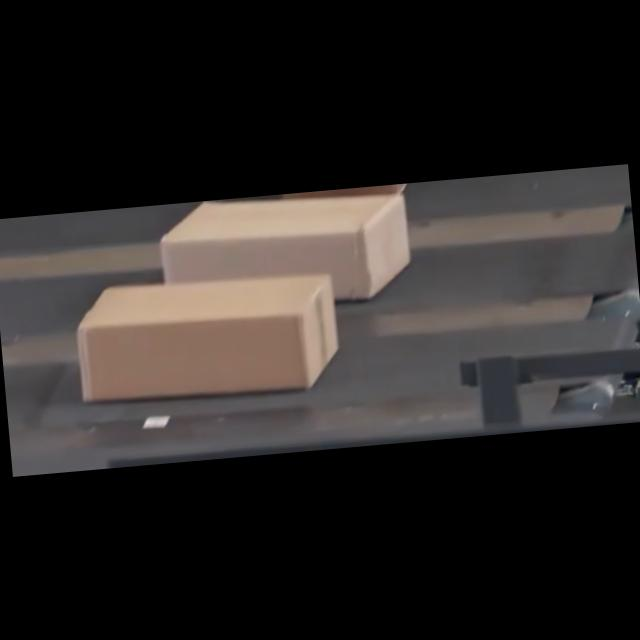box: (76, 266, 346, 409), (153, 184, 416, 316)
